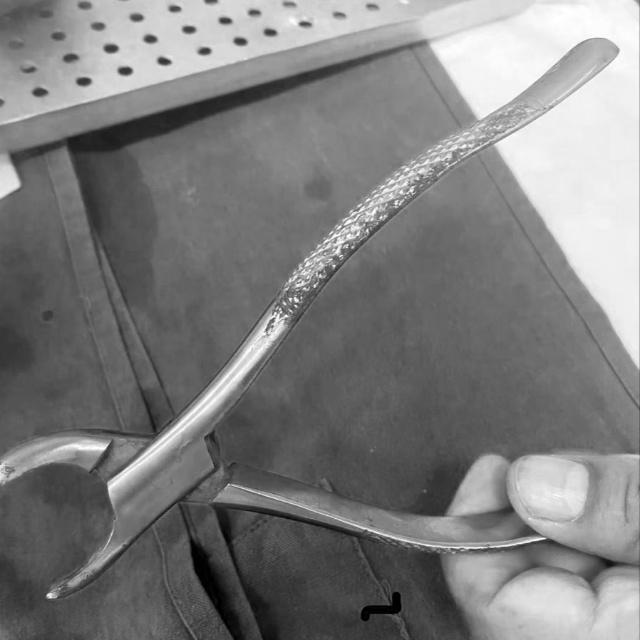forceps: (0, 38, 620, 602)
